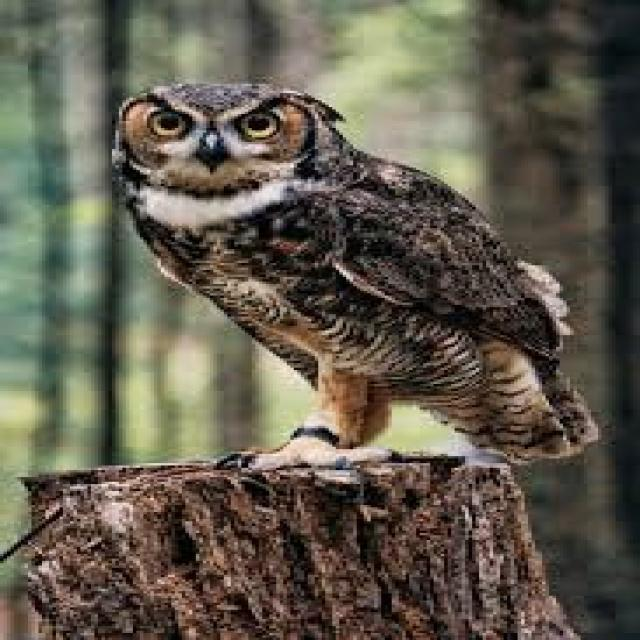owl: (112, 81, 595, 458)
